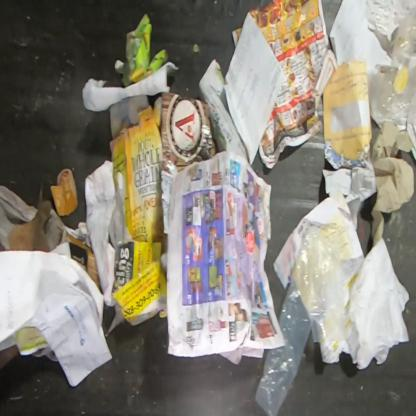cardboard: (109, 93, 164, 243), (153, 92, 218, 176), (48, 170, 78, 217)
rigid_plastic: (376, 4, 415, 125)
soft_plastic: (254, 226, 347, 415)
